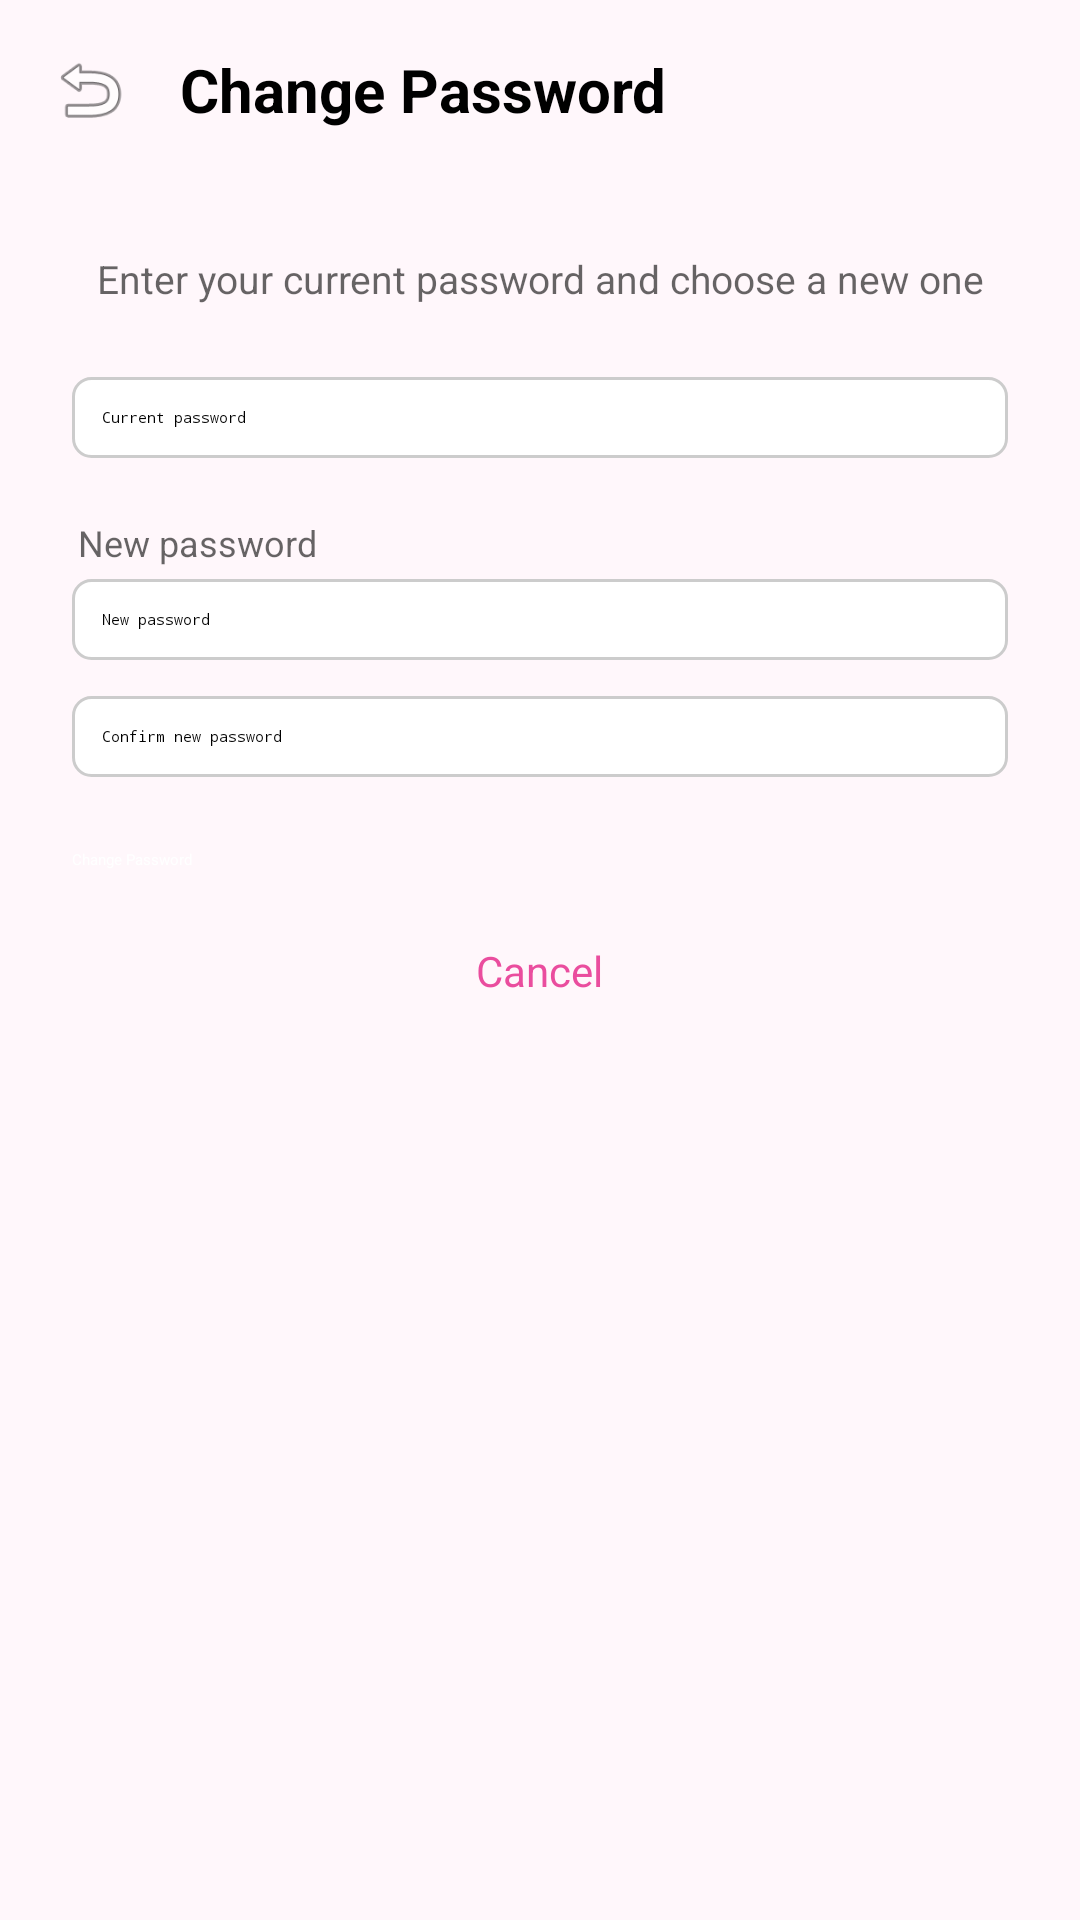

Screen size 1080×1920. Icon name, then its box in pixels as [x1, y1, x2, y2]:
Back: [61, 63, 122, 118]
